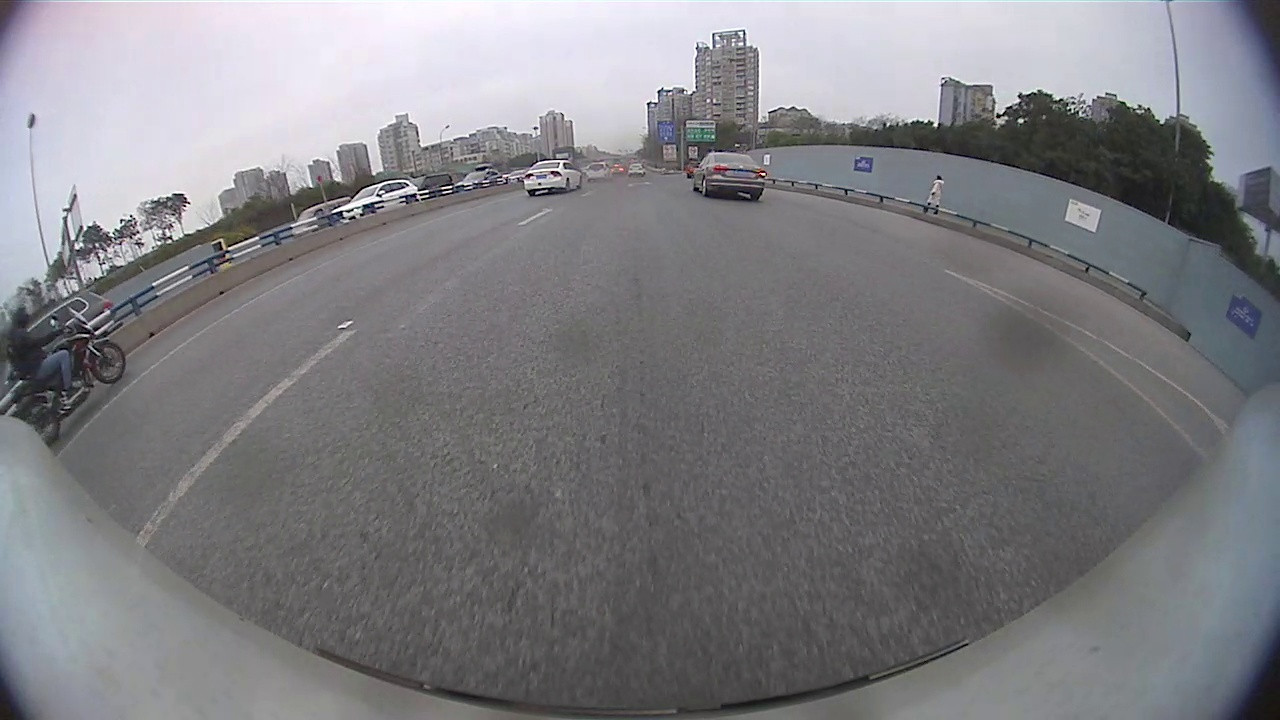car: (1, 286, 117, 401), (328, 178, 424, 227), (691, 148, 768, 202), (291, 194, 354, 238), (522, 157, 584, 198)
person: (931, 174, 944, 216)
rider: (1, 300, 130, 446)
